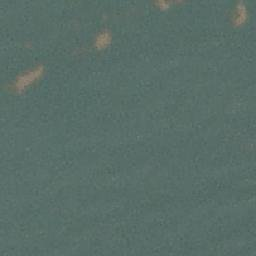debris: (11, 69, 41, 91), (229, 4, 247, 28), (92, 31, 110, 48), (154, 1, 175, 10)
